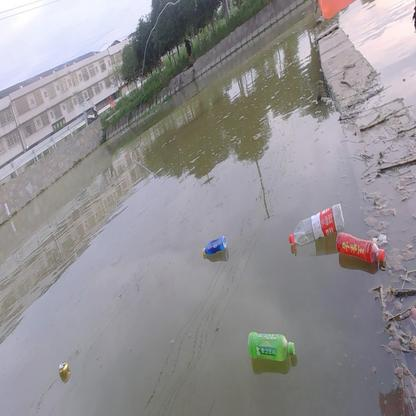can: (57, 361, 69, 377)
plastic bottle: (289, 203, 345, 245), (335, 233, 386, 266), (247, 330, 296, 362), (201, 236, 227, 254)
